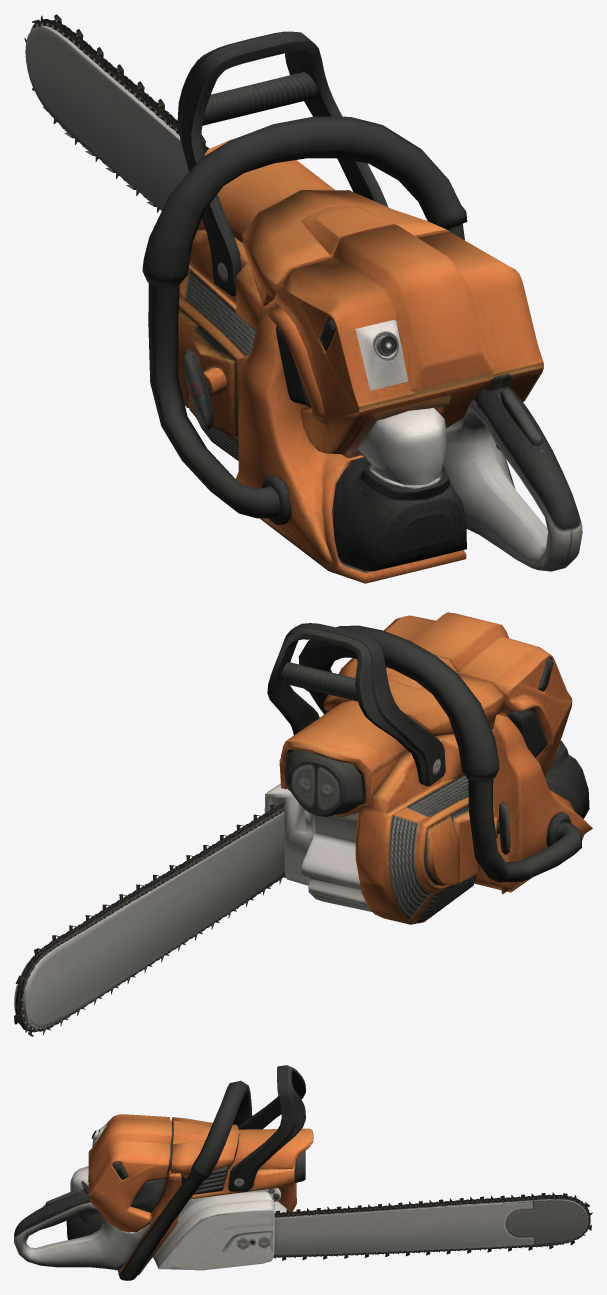
The model's file is x-chainsaw.glb.
3 renders of one model, top to bottom at view 1: azimuth 30°, elevation 25°; view 2: azimuth 150°, elevation 25°; view 3: azimuth 270°, elevation 25°, orthographic. The views are drawn at different scales.
Visible parts, largest first — view 1: chainsaw, Cube.002; view 2: chainsaw, Cube.002; view 3: chainsaw, Cube.002.
Boxes of the visible parts, bbox=[...] form: chainsaw: bbox=[25, 25, 582, 583]; Cube.002: bbox=[24, 14, 209, 212]; chainsaw: bbox=[14, 612, 592, 1028]; Cube.002: bbox=[14, 802, 285, 1036]; chainsaw: bbox=[14, 1065, 588, 1280]; Cube.002: bbox=[273, 1192, 592, 1260].
Size of the model in its own units: 2.58 by 3.16 by 9.
4 materials, 4 textured.
